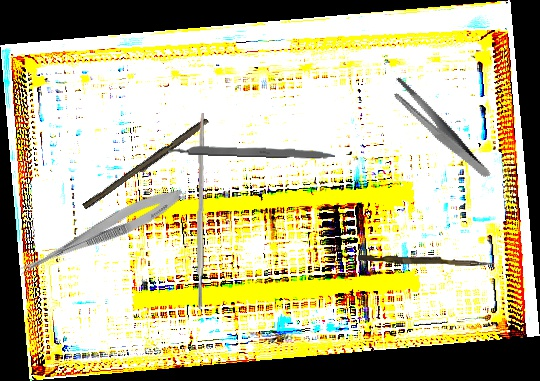Dressing Forceps: (386, 60, 493, 198)
Micro Scissor: (14, 180, 189, 286)
Pusher: (357, 254, 496, 267)
Scalpel Handle: (82, 115, 211, 214), (167, 143, 336, 160), (194, 112, 207, 310)
